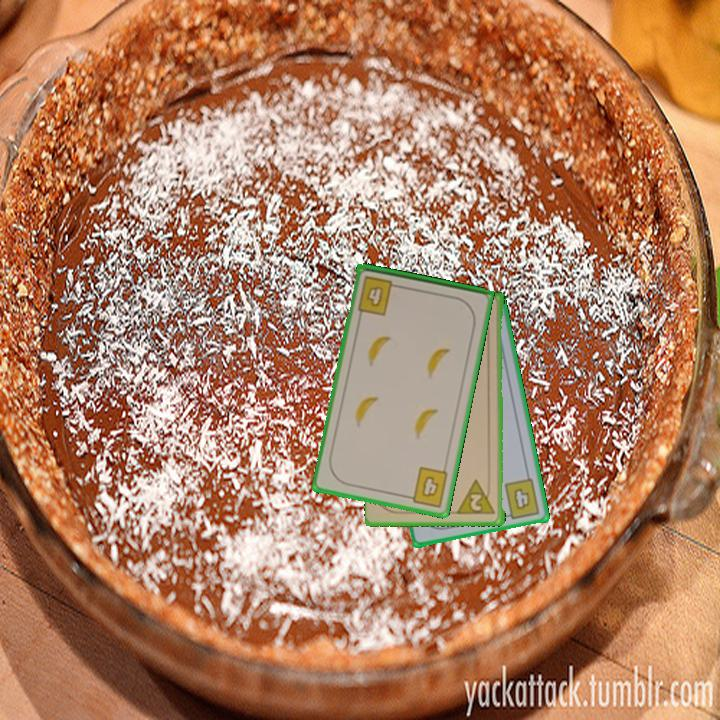2p: (455, 477, 498, 518)
4b: (402, 463, 451, 510), (354, 272, 403, 318), (499, 475, 543, 521)
